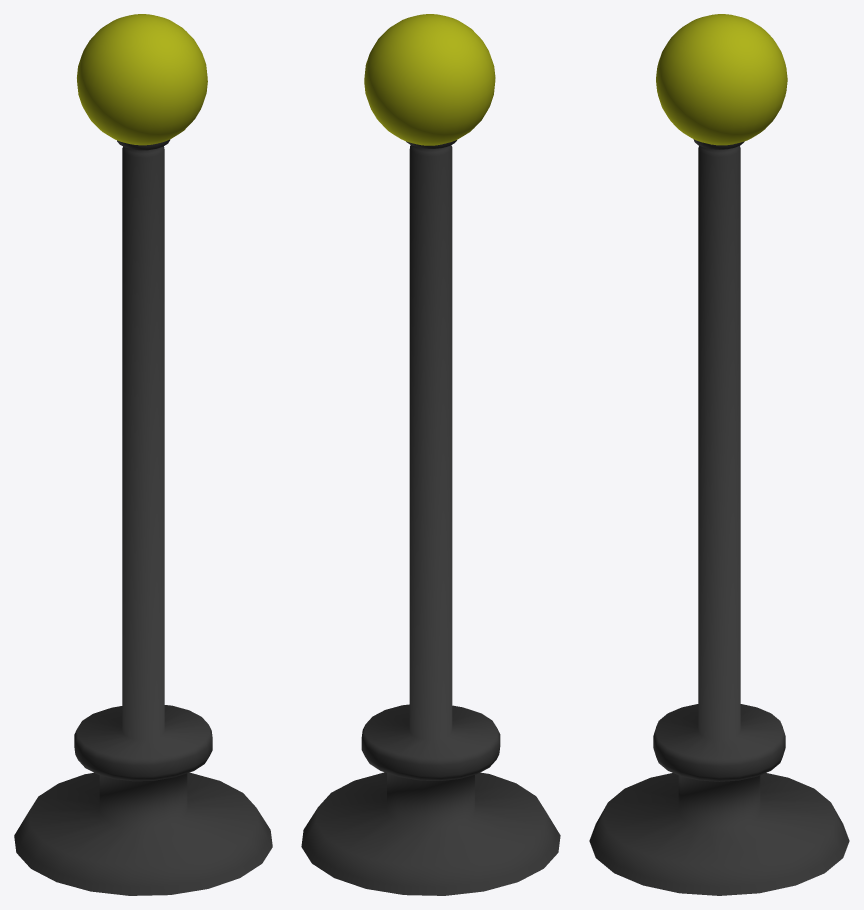
Rendered from poste_prop.fbx.
3 renders of one model, left to right at view 1: azimuth 30°, elevation 25°; view 2: azimuth 150°, elevation 25°; view 3: azimuth 270°, elevation 25°, orthographic.
Parts seen in each view (by area): view 1: Circle; view 2: Circle; view 3: Circle.
Part boxes in pixels (bbox=[...]): Circle: bbox=[14, 14, 272, 895]; Circle: bbox=[301, 14, 560, 895]; Circle: bbox=[589, 14, 849, 895].
Size of the model in its own units: 46.46 by 162 by 46.46.
